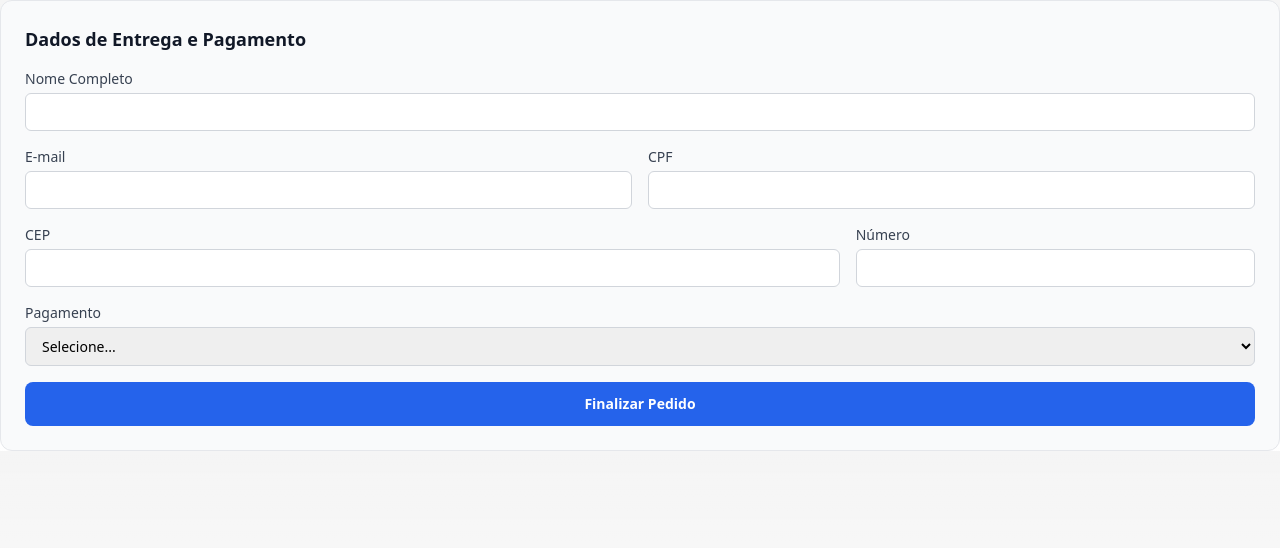
Test: CheckoutForm › deve exibir erros de validação ao enviar um formulário vazio
Click the button "Finalizar Pedido" at (640, 404), box [25, 382, 1255, 426]
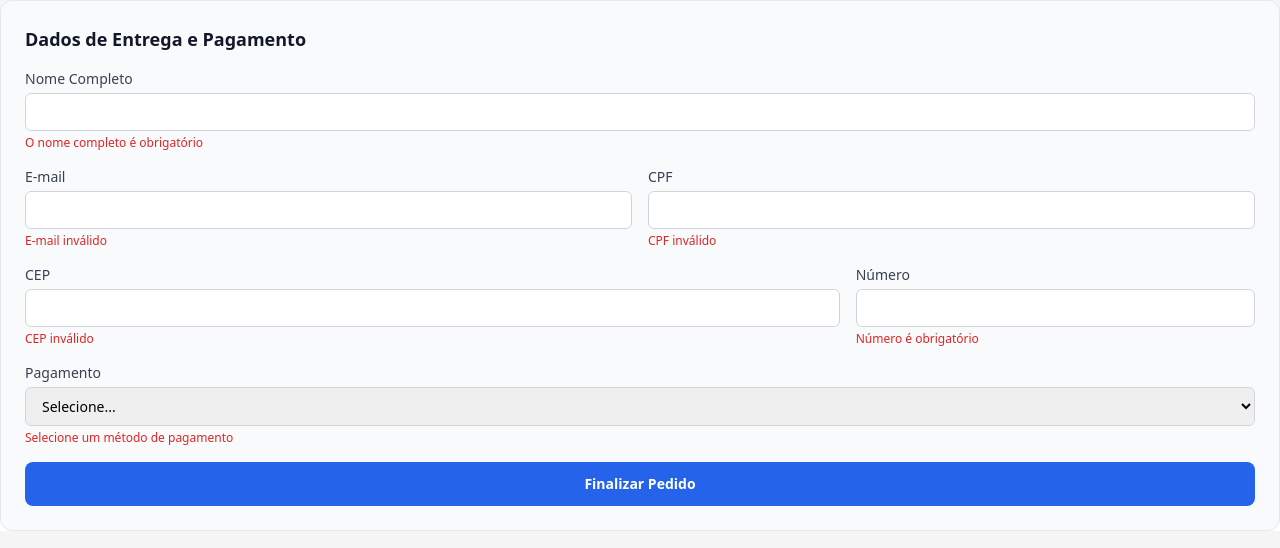
Expected: the text "O nome completo é obrigatório" is shown, [25, 134, 203, 151]
Expected: the text "E-mail inválido" is shown, [25, 232, 107, 249]
Expected: the text "CEP inválido" is shown, [25, 330, 94, 347]
